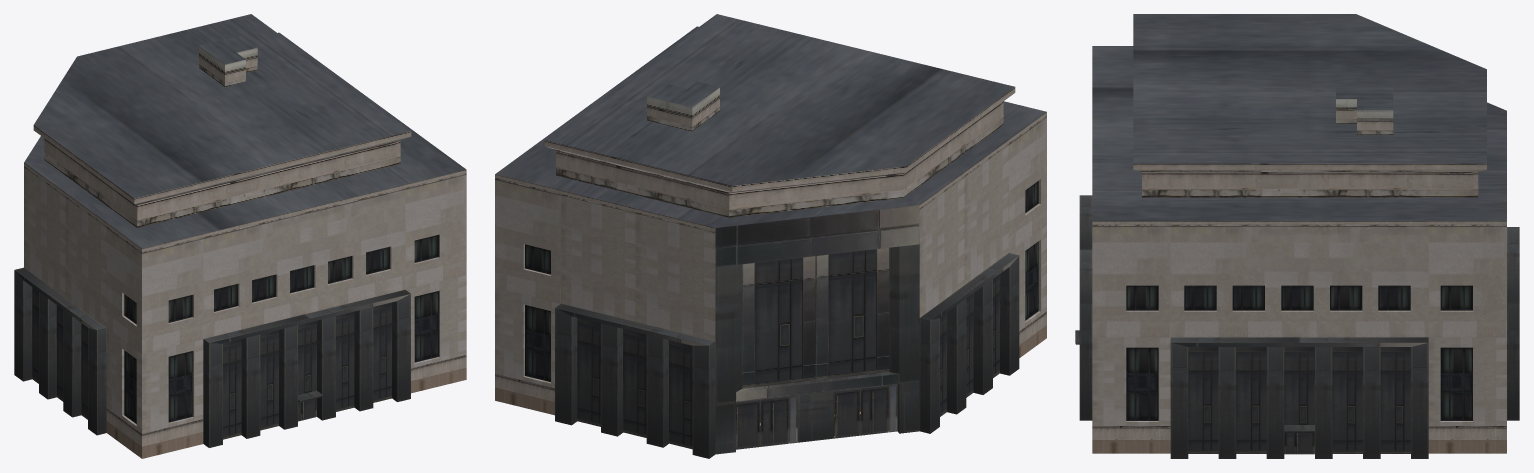
Rendered from downtown_publicbuilding_1.glb.
3 views of the same model, side by side, from view 1: azimuth 30°, elevation 25°; view 2: azimuth 150°, elevation 25°; view 3: azimuth 270°, elevation 25° (orthographic). The views are drawn at different scales.
Parts seen in each view (by area): view 1: Downtown_PublicBuilding_1_Downtown_Facade_FLR_2_0, Downtown_PublicBuilding_1_Downtown_Modern_Firstfloor_FLR_1_0; view 2: Downtown_PublicBuilding_1_Downtown_Facade_FLR_2_0, Downtown_PublicBuilding_1_Downtown_Modern_Firstfloor_FLR_1_0; view 3: Downtown_PublicBuilding_1_Downtown_Facade_FLR_2_0, Downtown_PublicBuilding_1_Downtown_Modern_Firstfloor_FLR_1_0.
Boxes of the visible parts, x1=… form: Downtown_PublicBuilding_1_Downtown_Facade_FLR_2_0: x1=24, y1=14, x2=466, y2=458; Downtown_PublicBuilding_1_Downtown_Modern_Firstfloor_FLR_1_0: x1=14, y1=267, x2=410, y2=447; Downtown_PublicBuilding_1_Downtown_Facade_FLR_2_0: x1=495, y1=14, x2=1046, y2=415; Downtown_PublicBuilding_1_Downtown_Modern_Firstfloor_FLR_1_0: x1=555, y1=205, x2=1019, y2=458; Downtown_PublicBuilding_1_Downtown_Facade_FLR_2_0: x1=1092, y1=14, x2=1506, y2=453; Downtown_PublicBuilding_1_Downtown_Modern_Firstfloor_FLR_1_0: x1=1075, y1=195, x2=1519, y2=458.
Bounding box in the file's own units: 35.18 × 25.78 × 35.18.
2 materials, 2 textured.
